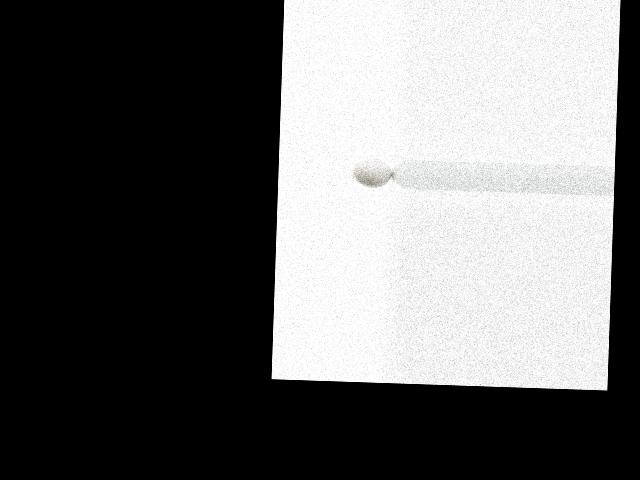egg: (351, 158, 392, 188)
